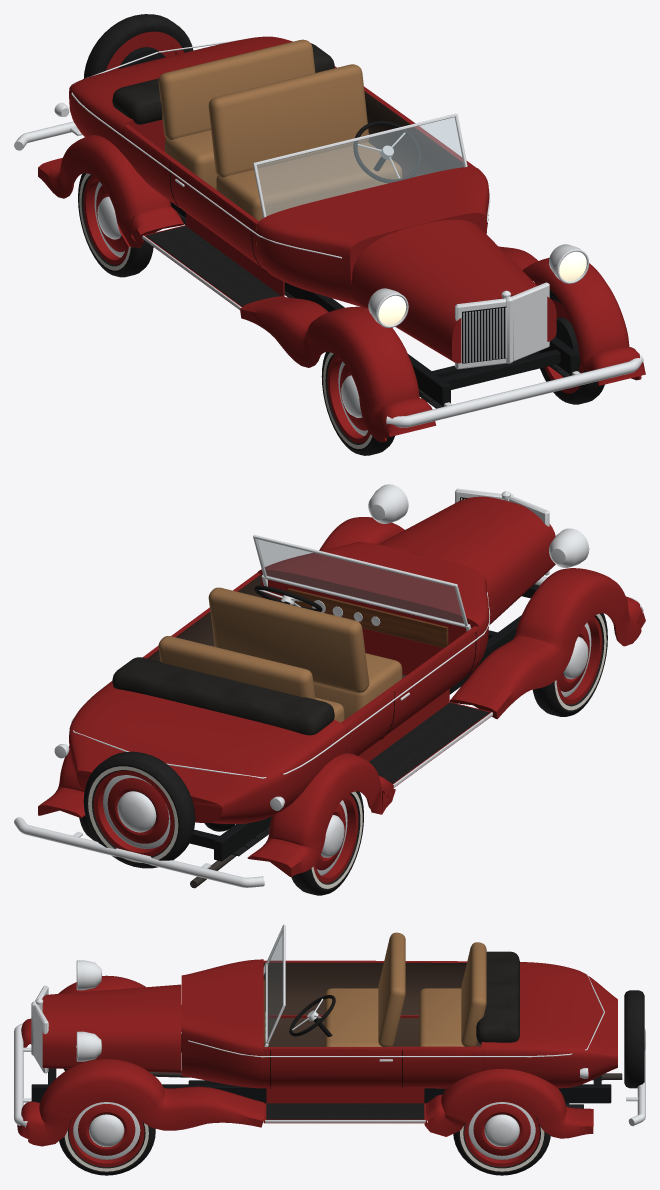
File: vintage-convertible.glb
3 renders of one model, top to bottom at view 1: azimuth 30°, elevation 25°; view 2: azimuth 150°, elevation 25°; view 3: azimuth 270°, elevation 25°, orthographic. The views are drawn at different scales.
Parts seen in each view (by area): view 1: Vintage_Convertible, Wheel_RR, Wheel_FR, Wheel_FL; view 2: Vintage_Convertible, Wheel_FR, Wheel_RR; view 3: Vintage_Convertible, Wheel_RL, Wheel_FL.
Part boxes in pixels (box(x1,y1,x2,y2)): Vintage_Convertible: box(14, 14, 645, 442); Wheel_RR: box(78, 173, 153, 277); Wheel_FR: box(321, 352, 394, 455); Wheel_FL: box(540, 289, 604, 404); Vintage_Convertible: box(14, 484, 645, 888); Wheel_FR: box(532, 613, 607, 716); Wheel_RR: box(291, 791, 363, 895); Vintage_Convertible: box(14, 924, 645, 1146); Wheel_RL: box(453, 1100, 550, 1175); Wheel_FL: box(59, 1101, 155, 1175).
Bounding box in the file's own units: 1.77 × 1.39 × 4.63.
Materials: 21 (4 with a texture image).
